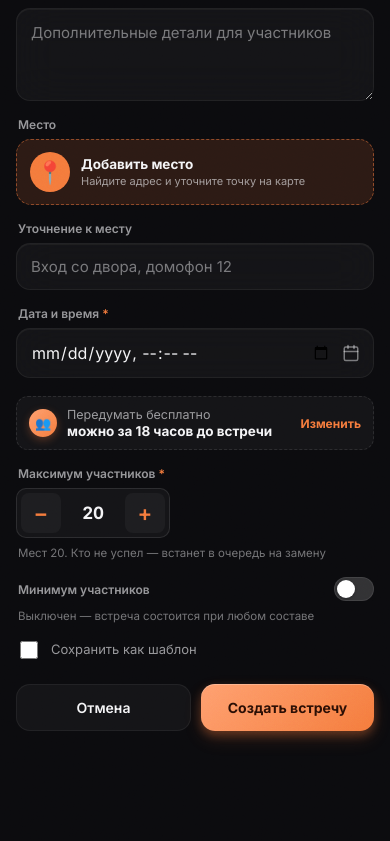
Test: CreateEventPage — максимум и минимум участников › включение минимума даёт 2 и называет правило
The width and height of the screenshot is (390, 841).
(page scrolled)
Click the switch named "Минимум участников" at (354, 589), box [334,577,374,601]
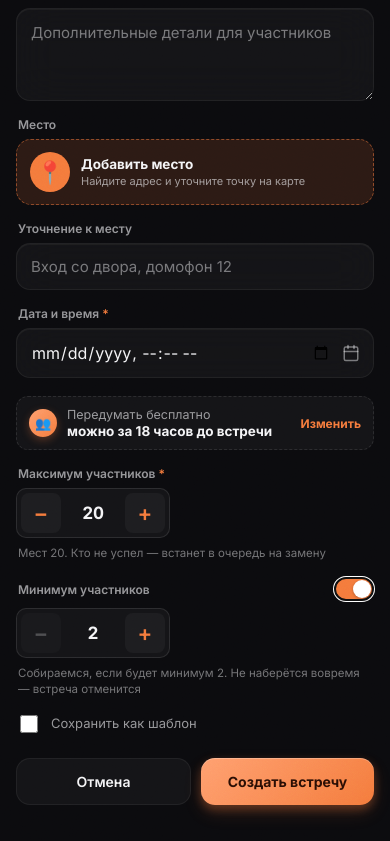
Check: the field named "Значение минимума" holds "2", box [65,623,121,643]
Check: the text "Собираемся, если будет минимум 2. Не наберётся вовремя — встреча отменится" is shown, box [16,665,374,698]
